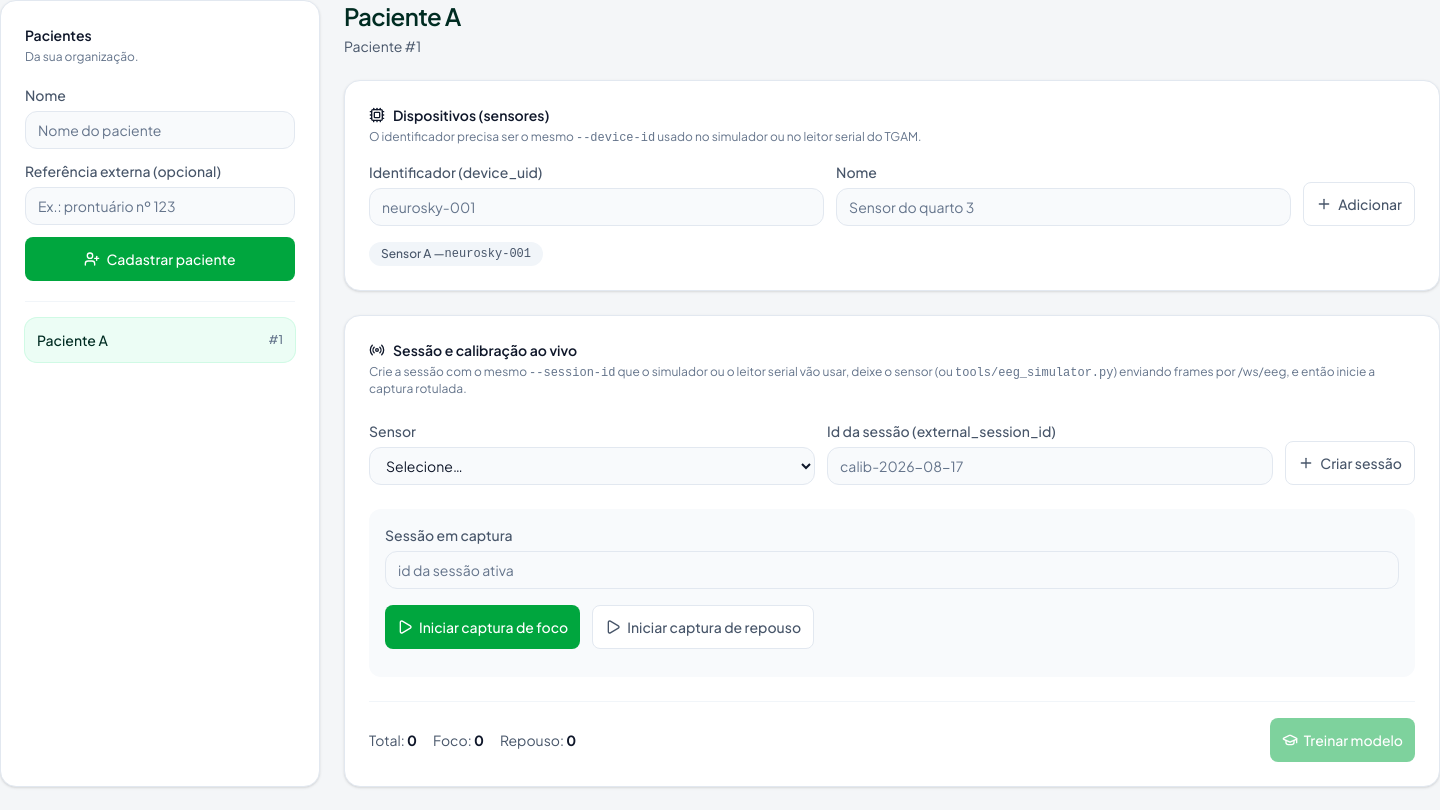
Test case: PatientsPage › não deixa iniciar captura sem uma sessão informada
The width and height of the screenshot is (1440, 810).
Expected: the heading "Paciente A" is shown, [344,1,461,31]
What coordinates should you click on to do the following:
click the button "Iniciar captura de foco"
I would click on:
 (483, 627)
Its box is [385,605,580,649].
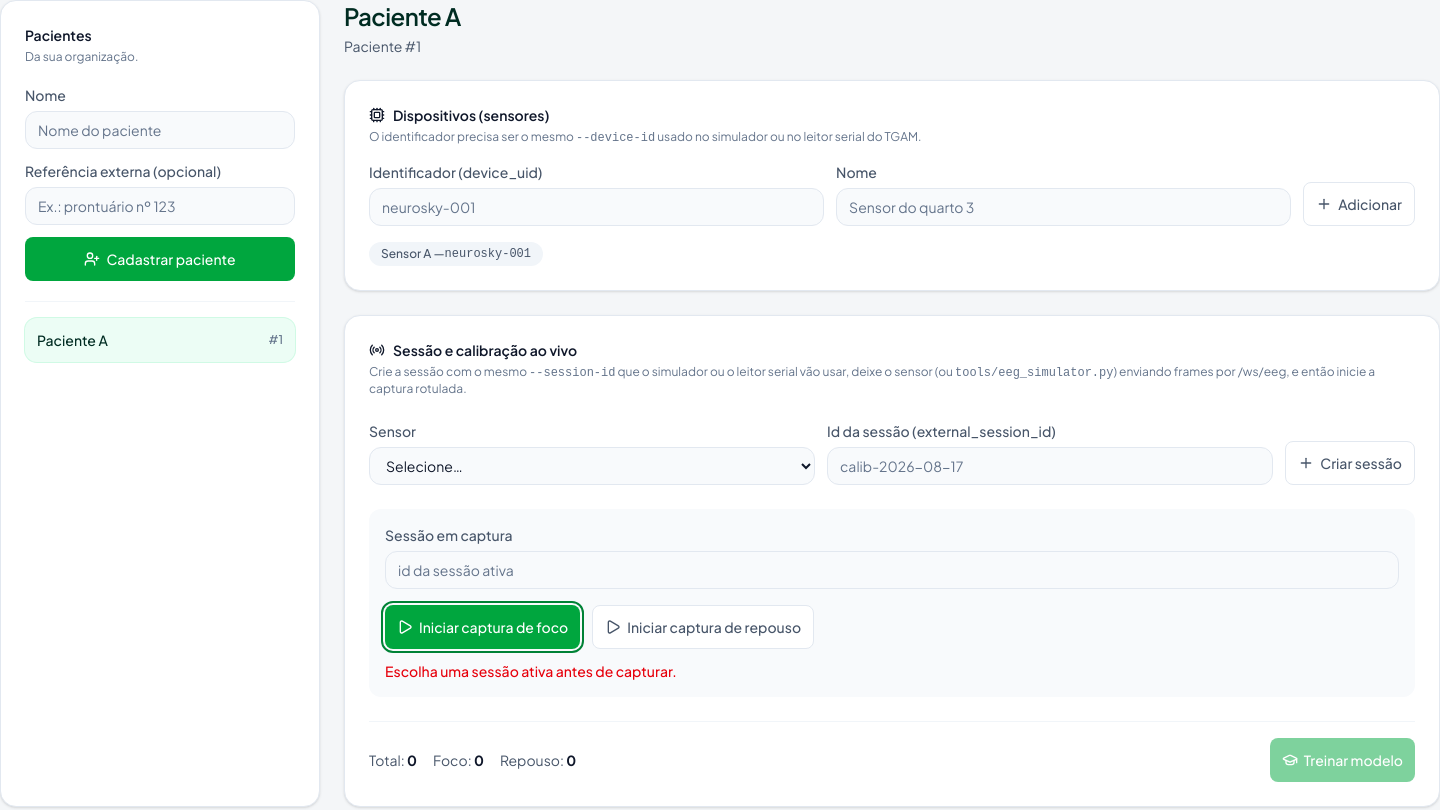
Expected: the message shows "Escolha uma sessão", [385,662,677,680]
